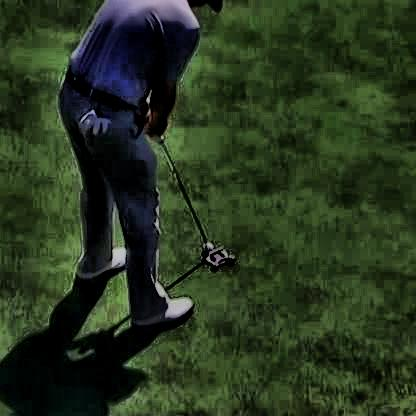golfball: (200, 242, 213, 249)
